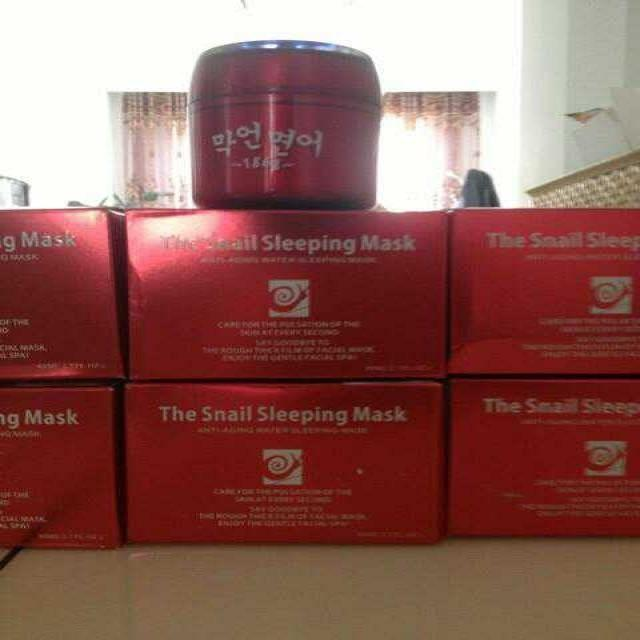box: (121, 208, 451, 379), (124, 378, 447, 546), (447, 208, 640, 374), (447, 374, 640, 538), (0, 209, 128, 381), (0, 378, 124, 549)
